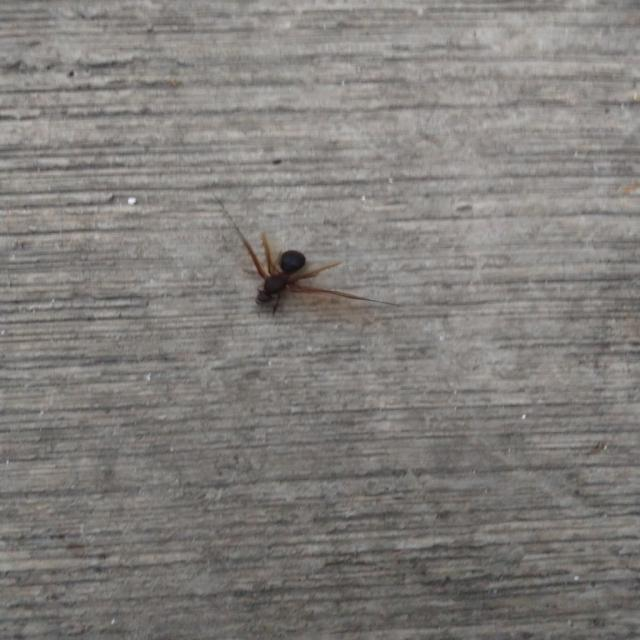Alive-Female-Alate: (228, 216, 402, 319)
